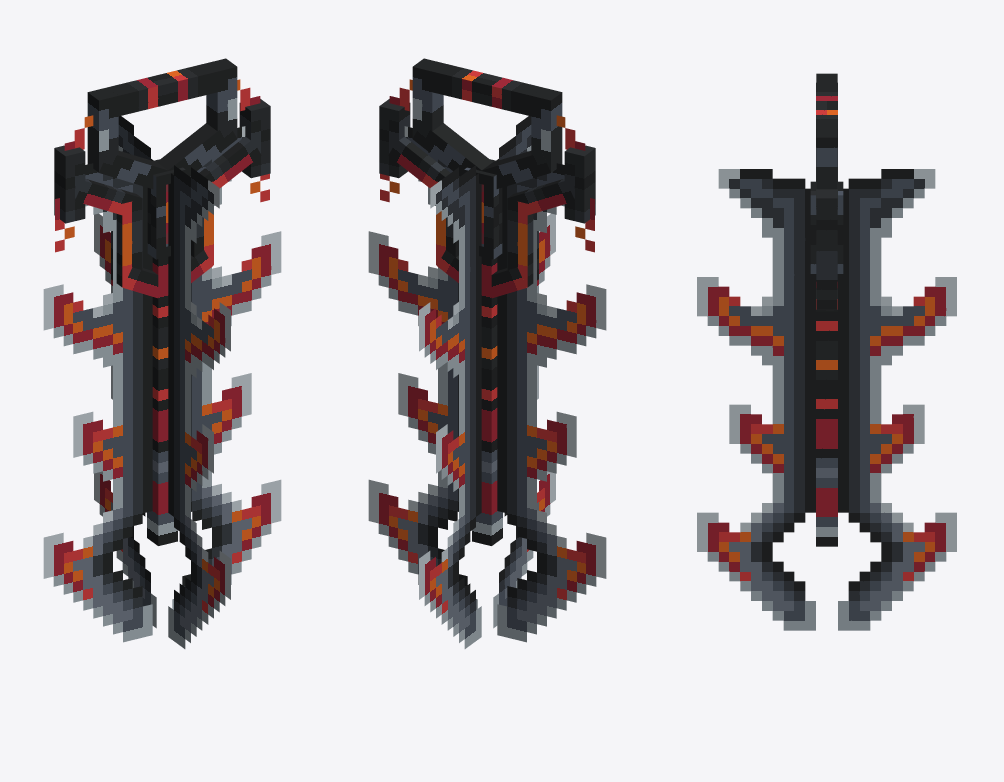
The model's file is mechanized_wraithblade_level_one.glb.
3 renders of one model, left to right at view 1: azimuth 30°, elevation 25°; view 2: azimuth 150°, elevation 25°; view 3: azimuth 270°, elevation 25°, orthographic. The views are drawn at different scales.
Parts seen in each view (by area): view 1: main__Tool_R; view 2: main__Tool_R; view 3: main__Tool_R.
Part boxes in pixels (x1,y1,x2,y2): main__Tool_R: (43, 58, 281, 648); main__Tool_R: (368, 58, 606, 648); main__Tool_R: (697, 73, 956, 630).
Bounding box in the file's own units: 0.9375 × 1.99 × 0.9375.
1 material, 1 textured.
